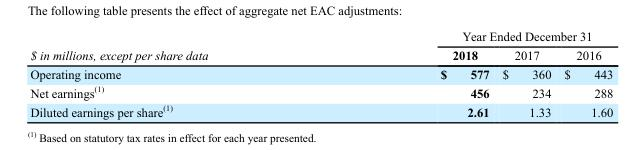table: (29, 28, 612, 118)
table column: (29, 28, 323, 118), (323, 28, 495, 118), (495, 28, 556, 118), (556, 28, 612, 118)
table column header: (29, 28, 612, 64)
table row: (29, 45, 612, 64), (29, 82, 612, 101), (29, 64, 612, 82), (29, 28, 612, 45), (29, 101, 612, 118)
table spanning cell: (29, 28, 323, 64), (323, 28, 612, 45)
